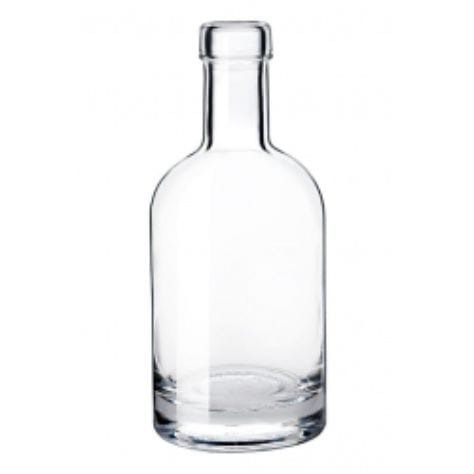container: (145, 17, 335, 456)
